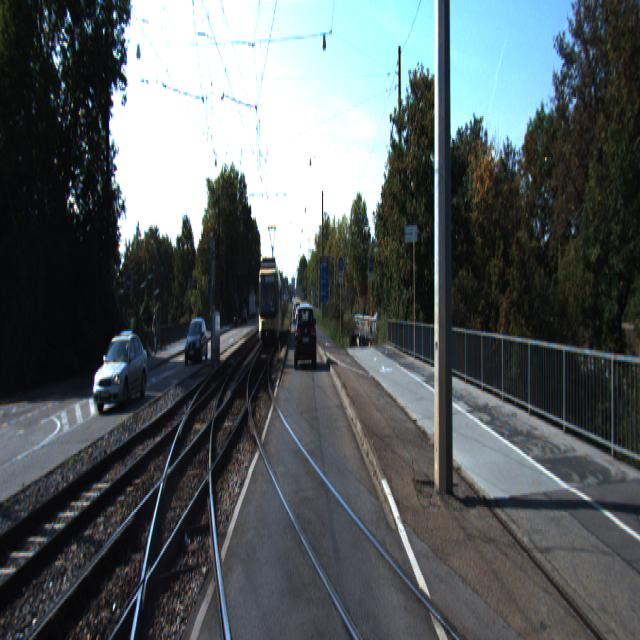Car: (91, 334, 149, 420), (256, 254, 284, 350), (182, 318, 210, 366), (295, 306, 315, 372)
